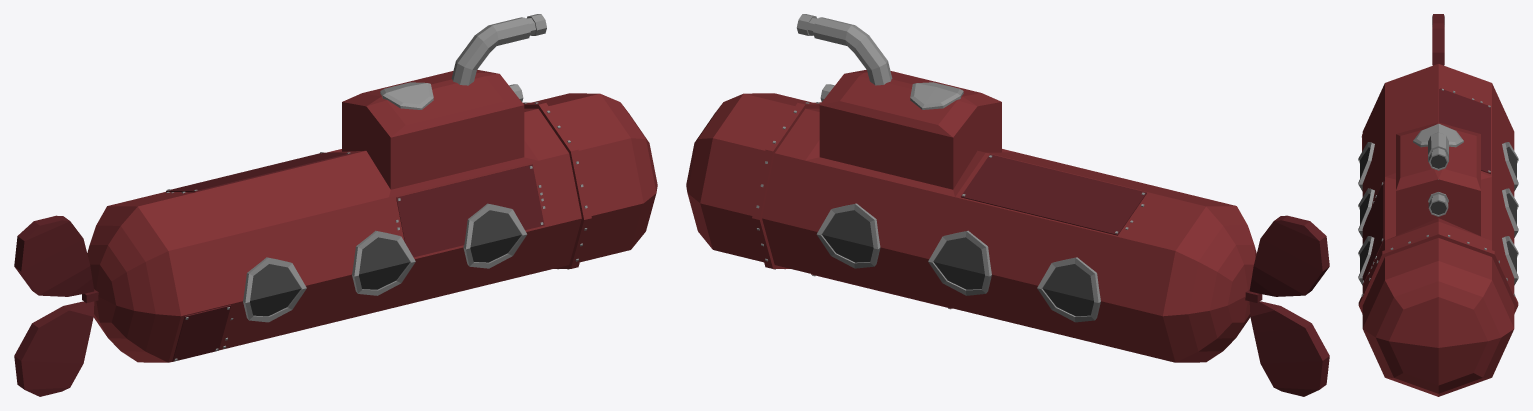
Rendered from RedSubmarine.fbx.
The picture shows the model from 3 angles, left to right: view 1: azimuth 30°, elevation 25°; view 2: azimuth 150°, elevation 25°; view 3: azimuth 270°, elevation 25°; orthographic projection. The views are drawn at different scales.
Visible parts, largest first — view 1: RedSubmarine, RedSubmarinePropeller, RedPSubmarinePeriscope; view 2: RedSubmarine, RedSubmarinePropeller, RedPSubmarinePeriscope; view 3: RedSubmarine, RedPSubmarinePeriscope, RedSubmarinePropeller.
Part boxes in pixels (x1,y1,x2,y2): RedSubmarine: [87, 70, 657, 362]; RedSubmarinePropeller: [14, 215, 98, 396]; RedPSubmarinePeriscope: [451, 14, 546, 85]; RedSubmarine: [686, 69, 1256, 362]; RedSubmarinePropeller: [1245, 215, 1329, 396]; RedPSubmarinePeriscope: [796, 14, 892, 85]; RedSubmarine: [1358, 64, 1518, 396]; RedPSubmarinePeriscope: [1428, 132, 1448, 170]; RedSubmarinePropeller: [1432, 14, 1444, 65].
Bounding box in the file's own units: 2324 × 914 × 589.
